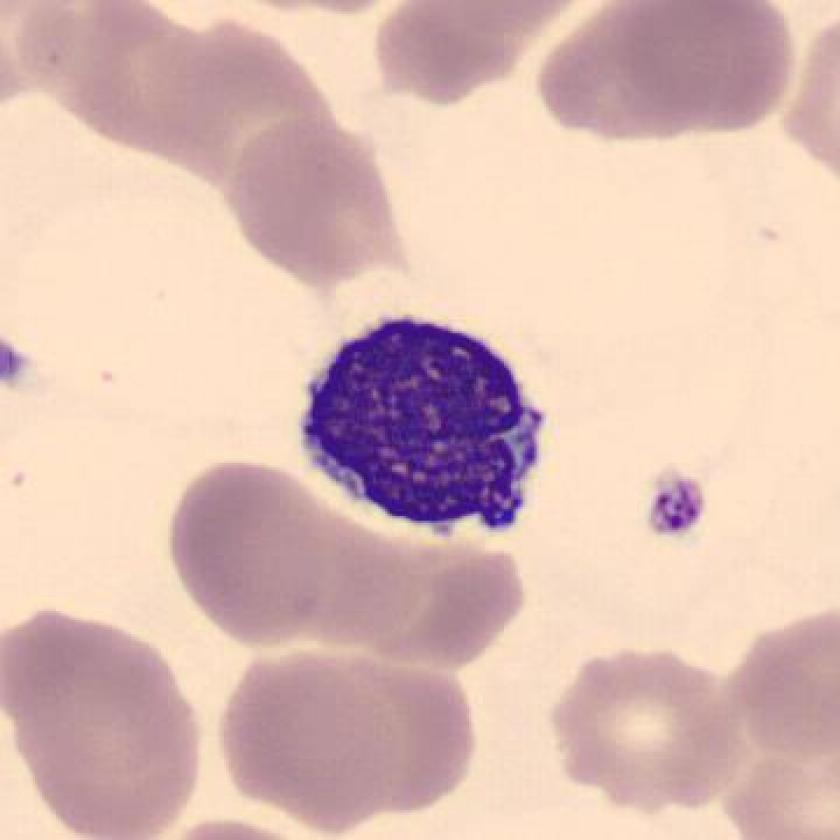lymphocyte: (291, 304, 557, 559)
platelets: (644, 465, 711, 548)
